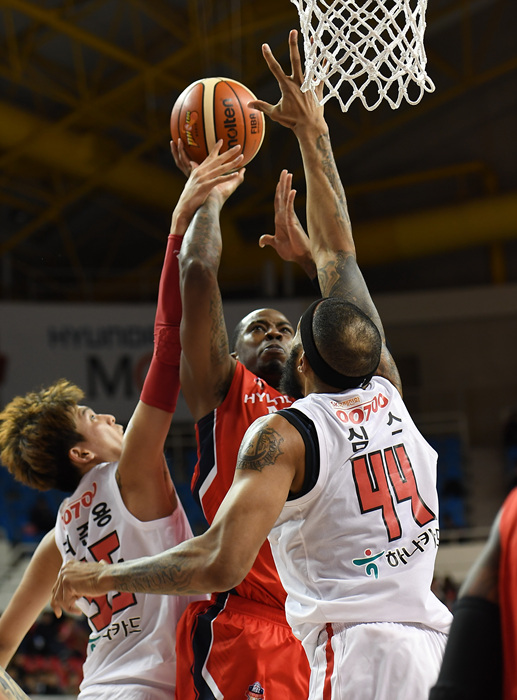block: (245, 18, 452, 700), (7, 103, 241, 700)
shoot: (149, 62, 348, 700), (166, 72, 272, 178)
